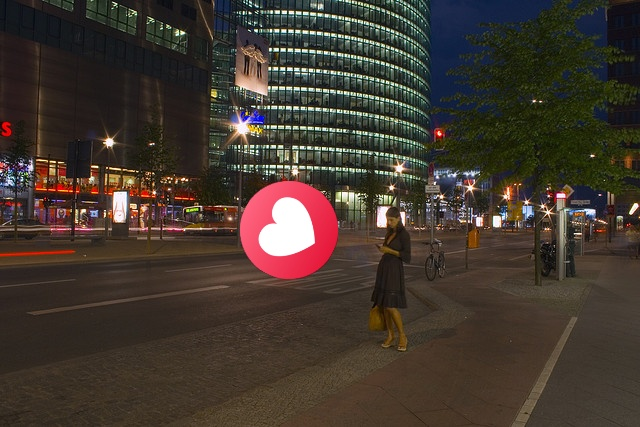love: (240, 181, 338, 279)
